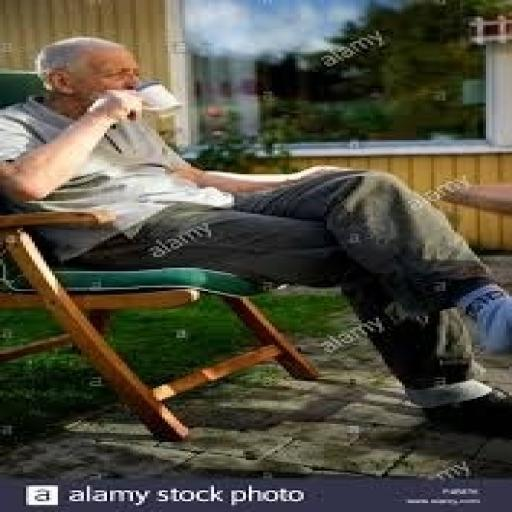drinking: (0, 34, 509, 435)
